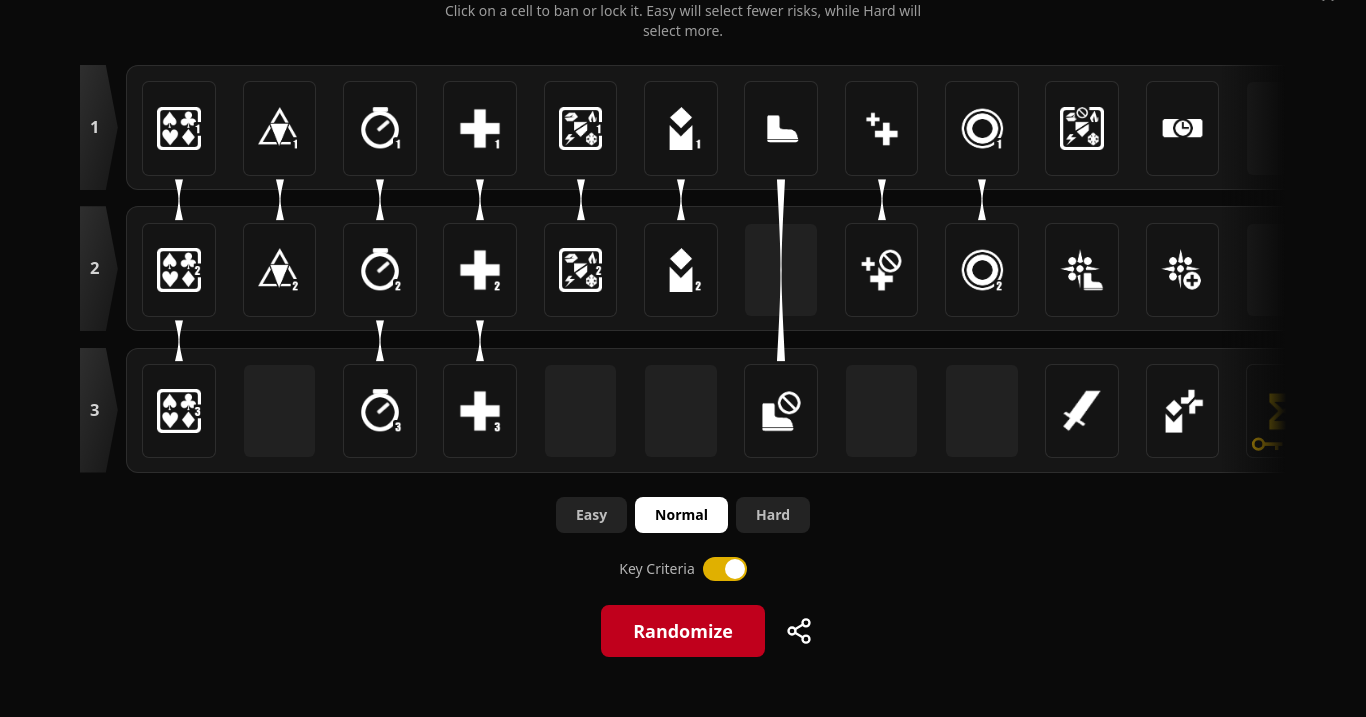
Test: App › generates and displays a 15-character code when Randomize is clicked
The image size is (1366, 717).
Click the button "Randomize". click: click(683, 630)
box: top-left (601, 604), bottom-right (765, 656)
(page scrolled)
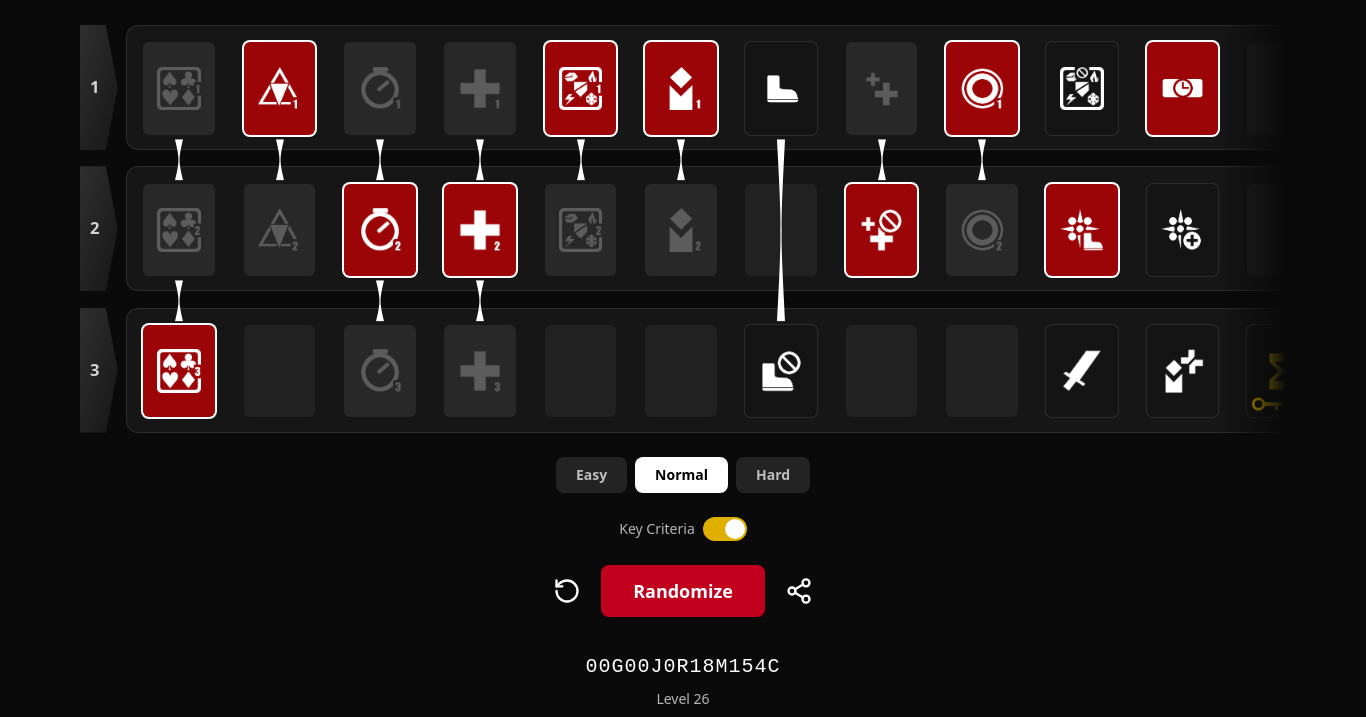
Now the text "00G00J0R18M154C" is shown, box top-left (586, 652), bottom-right (780, 680)
